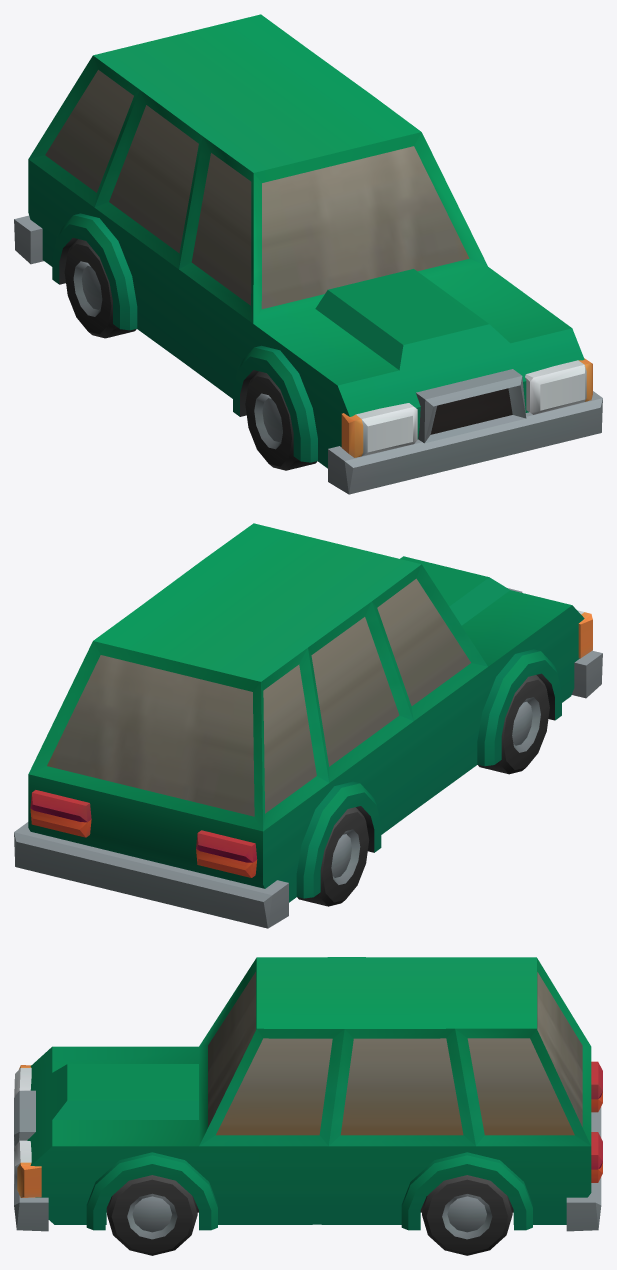
Rendered from car_stationwagon.glb.
3 renders of one model, top to bottom at view 1: azimuth 30°, elevation 25°; view 2: azimuth 150°, elevation 25°; view 3: azimuth 270°, elevation 25°, orthographic. The views are drawn at different scales.
Visible parts, largest first — view 1: Cube.13728, car_stationwagon_wheel_front_right, car_stationwagon_wheel_rear_right; view 2: Cube.13728, car_stationwagon_wheel_rear_right, car_stationwagon_wheel_front_right; view 3: Cube.13728, car_stationwagon_wheel_front_left, car_stationwagon_wheel_rear_left.
Boxes of the visible parts, x1,y1,x2,y2 form: Cube.13728: (14, 14, 602, 494); car_stationwagon_wheel_front_right: (245, 371, 317, 470); car_stationwagon_wheel_rear_right: (64, 239, 136, 338); Cube.13728: (14, 523, 602, 928); car_stationwagon_wheel_rear_right: (297, 807, 369, 906); car_stationwagon_wheel_front_right: (478, 675, 549, 774); Cube.13728: (14, 957, 602, 1231); car_stationwagon_wheel_front_left: (107, 1175, 197, 1255); car_stationwagon_wheel_rear_left: (422, 1175, 512, 1255).
Bounding box in the file's own units: 0.4189 × 0.3688 × 0.9381.
1 material, 1 textured.
